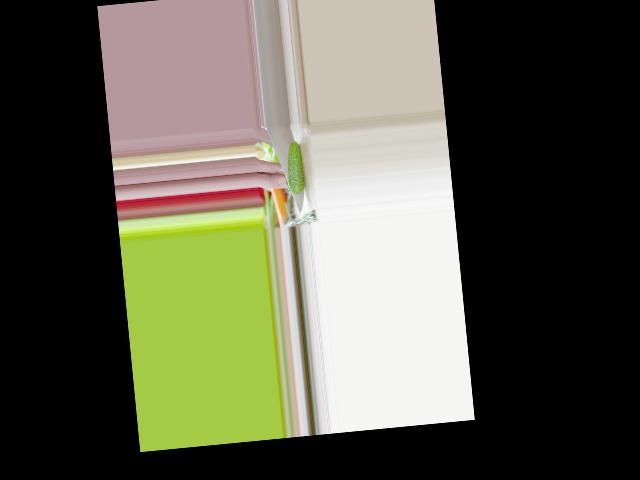cucumber: (285, 141, 306, 195)
